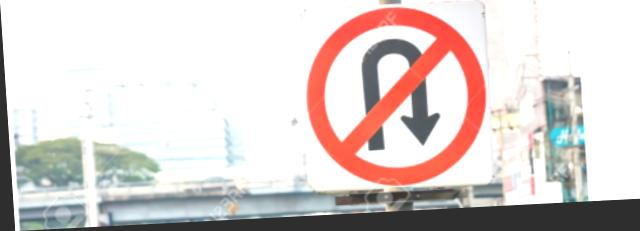not_u_turn_right: (295, 2, 487, 195)
